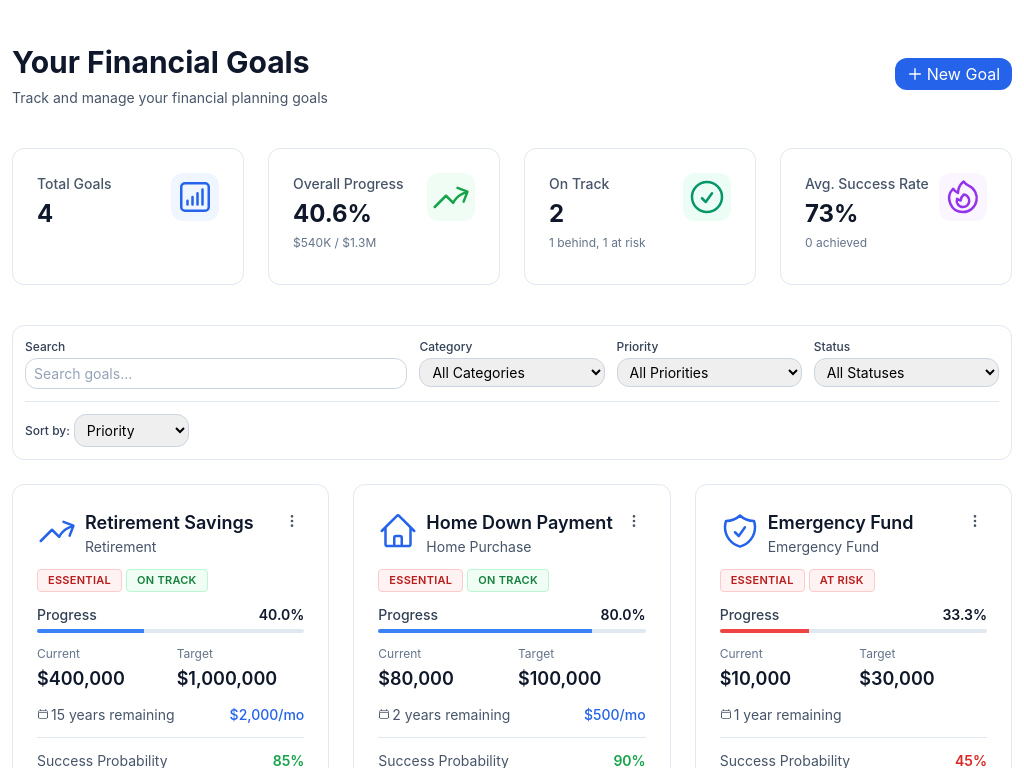
Test: GoalDashboard › filters goals by search query
Type "retirement" into the field with placeholder "Search goals...". click: (216, 374)
box: [25,358,407,389]
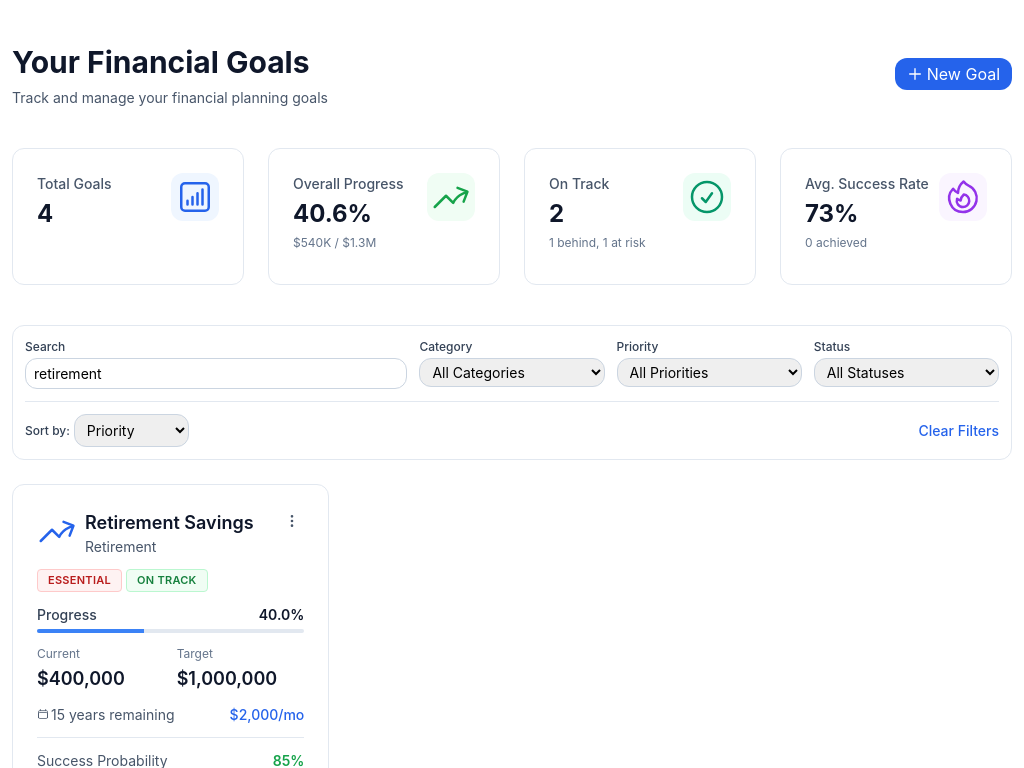
Expected: the text "College Fund" is not shown
Expected: no headings "Home Down Payment" are shown
Expected: no headings "Emergency Fund" are shown
